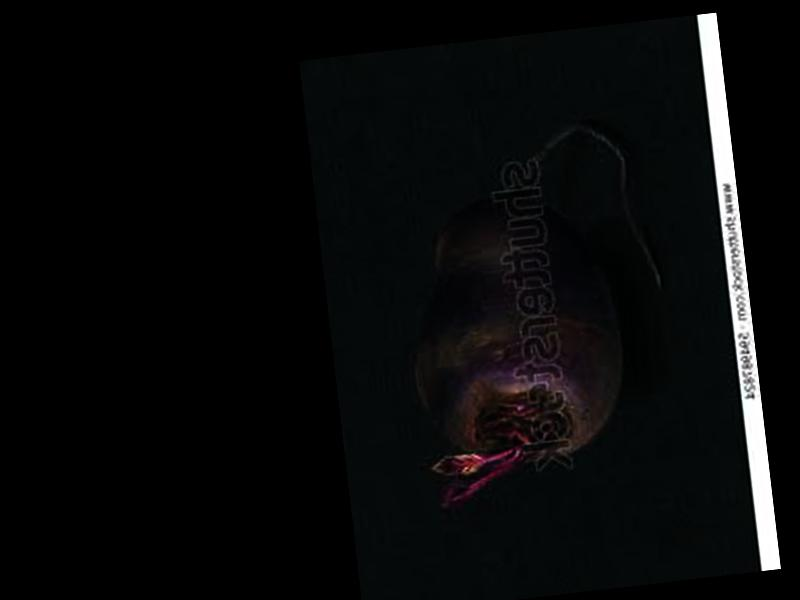Beet: (387, 117, 685, 518)
